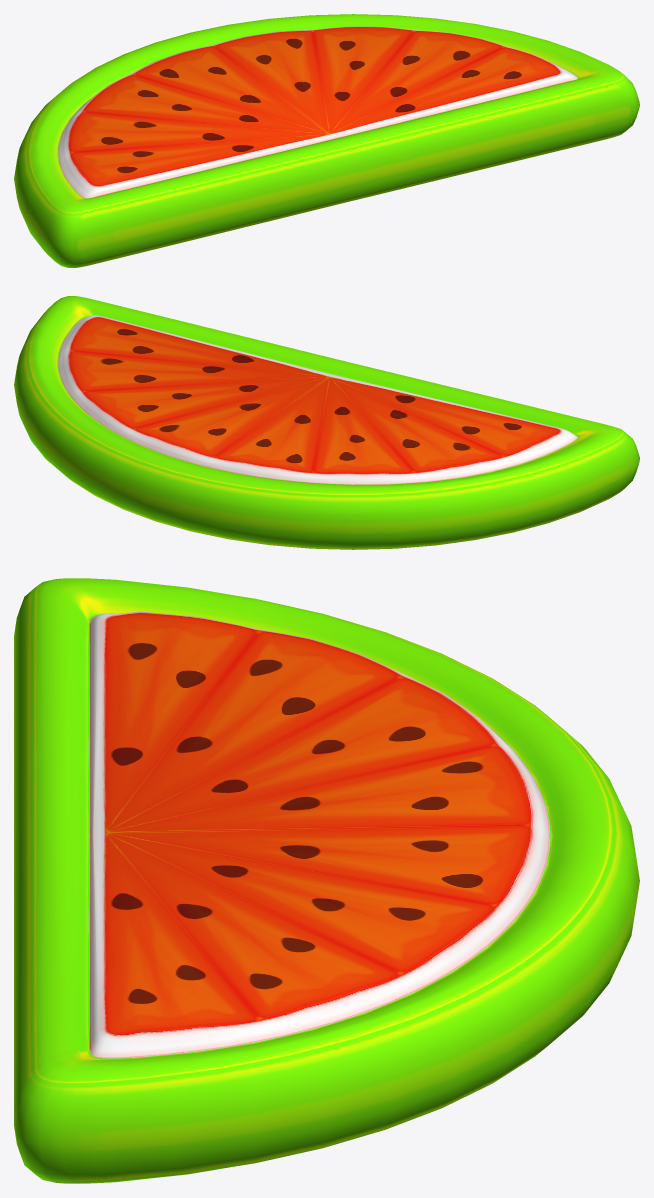
File: PoolFloat01.FBX
3 views of the same model, one above another, from view 1: azimuth 30°, elevation 25°; view 2: azimuth 150°, elevation 25°; view 3: azimuth 270°, elevation 25° (orthographic). The views are drawn at different scales.
Visible parts, largest first — view 1: PoolFloat01; view 2: PoolFloat01; view 3: PoolFloat01.
Part boxes in pixels (bbox=[...]): PoolFloat01: bbox=[14, 14, 639, 267]; PoolFloat01: bbox=[14, 296, 639, 549]; PoolFloat01: bbox=[14, 578, 639, 1183].
Size of what is drawn, in the model's own units: 2.23 by 0.2261 by 1.12.
